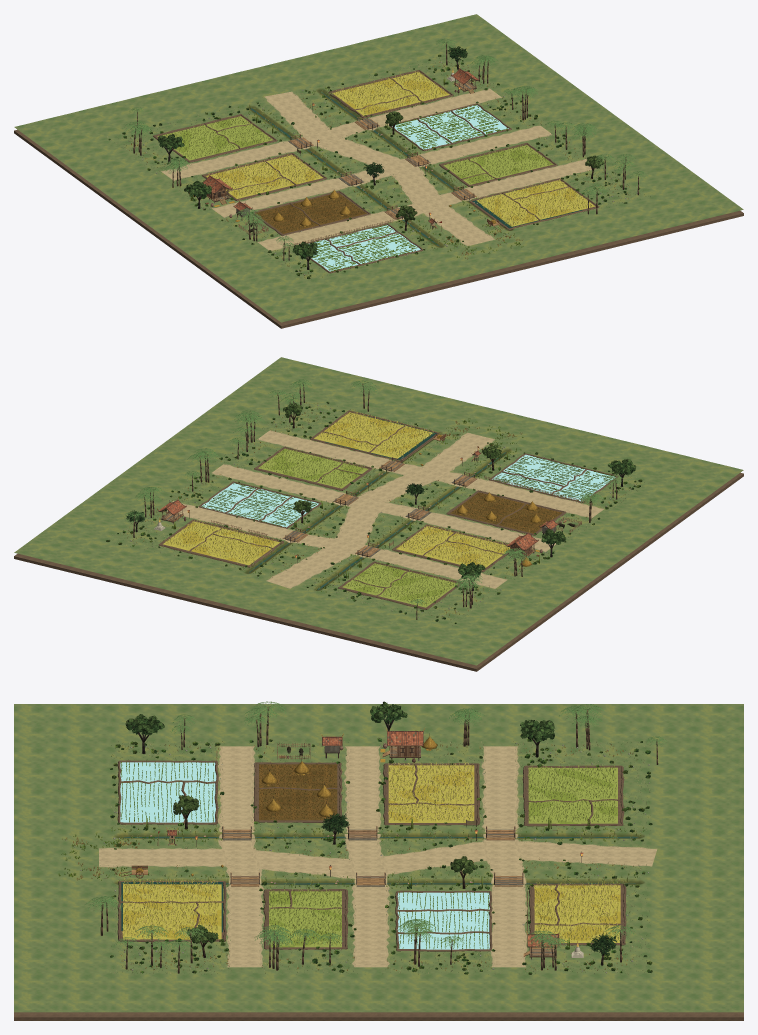
Rendered from rice-fields.glb.
3 views of the same model, one above another, from view 1: azimuth 30°, elevation 25°; view 2: azimuth 150°, elevation 25°; view 3: azimuth 270°, elevation 25° (orthographic). The views are drawn at different scales.
Visible parts, largest first — view 1: Ground - varied meadow | grass, Tracks - worn earth | path, Dense low rice canopy | rice, Water surface | paddy_water, Soil foundation | earth, Paddy bund ridges | earth, Dense rice blades | rice, Feathered road shoulders | path_edge, Dense low rice canopy | rice2, Dense rice blades | rice_seedling, Dense rice blades | rice2, Dense low rice canopy | rice_shade (+13 smaller); view 2: Ground - varied meadow | grass, Tracks - worn earth | path, Dense low rice canopy | rice, Water surface | paddy_water, Paddy bund ridges | earth, Soil foundation | earth, Dense rice blades | rice, Feathered road shoulders | path_edge, Dense low rice canopy | rice2, Dense rice blades | rice_seedling, Dense rice blades | rice2, Organic tree foliage | real bushes (+13 smaller); view 3: Ground - varied meadow | grass, Tracks - worn earth | path, Dense low rice canopy | rice, Water surface | paddy_water, Paddy bund ridges | earth, Dense rice blades | rice, Feathered road shoulders | path_edge, Dense low rice canopy | rice2, Soil foundation | earth, Dense rice blades | rice2, Dense low rice canopy | rice_shade, Organic tree foliage | real bushes (+25 smaller).
Boxes of the visible parts, box(x1,y1,x2,y2) form: Ground - varied meadow | grass: box(14, 14, 743, 322); Tracks - worn earth | path: box(162, 89, 591, 250); Dense low rice canopy | rice: box(207, 72, 595, 226); Water surface | paddy_water: box(309, 105, 508, 271); Soil foundation | earth: box(14, 129, 743, 328); Paddy bund ridges | earth: box(153, 70, 599, 273); Dense rice blades | rice: box(208, 71, 591, 225); Feathered road shoulders | path_edge: box(161, 88, 598, 250); Dense low rice canopy | rice2: box(157, 116, 549, 184); Dense rice blades | rice_seedling: box(312, 104, 507, 271); Dense rice blades | rice2: box(158, 116, 550, 183); Dense low rice canopy | rice_shade: box(206, 78, 576, 223); Ground - varied meadow | grass: box(14, 357, 743, 665); Tracks - worn earth | path: box(171, 431, 602, 587); Dense low rice canopy | rice: box(163, 412, 509, 567); Water surface | paddy_water: box(201, 454, 615, 527); Paddy bund ridges | earth: box(159, 410, 618, 609); Soil foundation | earth: box(14, 472, 743, 671); Dense rice blades | rice: box(165, 410, 509, 565); Feathered road shoulders | path_edge: box(167, 430, 603, 588); Dense low rice canopy | rice2: box(258, 449, 457, 607); Dense rice blades | rice_seedling: box(201, 456, 615, 527); Dense rice blades | rice2: box(261, 448, 455, 605); Organic tree foliage | real bushes: box(106, 401, 642, 623); Ground - varied meadow | grass: box(14, 704, 743, 1012); Tracks - worn earth | path: box(99, 746, 656, 967); Dense low rice canopy | rice: box(123, 765, 620, 942); Water surface | paddy_water: box(120, 762, 489, 949); Paddy bund ridges | earth: box(117, 760, 626, 951); Dense rice blades | rice: box(122, 761, 619, 940); Feathered road shoulders | path_edge: box(99, 746, 657, 967); Dense low rice canopy | rice2: box(269, 767, 617, 947); Soil foundation | earth: box(14, 830, 743, 1020); Dense rice blades | rice2: box(268, 765, 616, 945); Dense low rice canopy | rice_shade: box(123, 765, 620, 942); Organic tree foliage | real bushes: box(110, 738, 652, 974).
Bounding box in the file's own units: 180 × 13.79 × 180.
62 materials, 62 textured.
